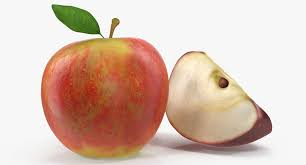elma: (40, 38, 170, 159)
